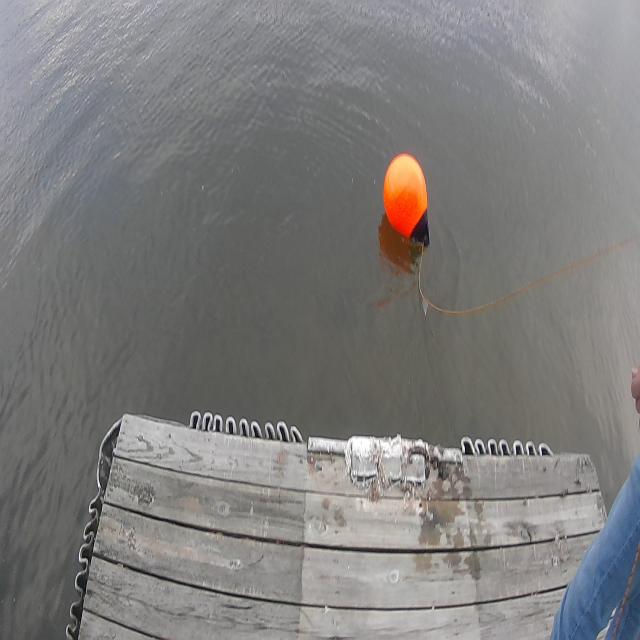Buoy: (380, 144, 437, 254)
